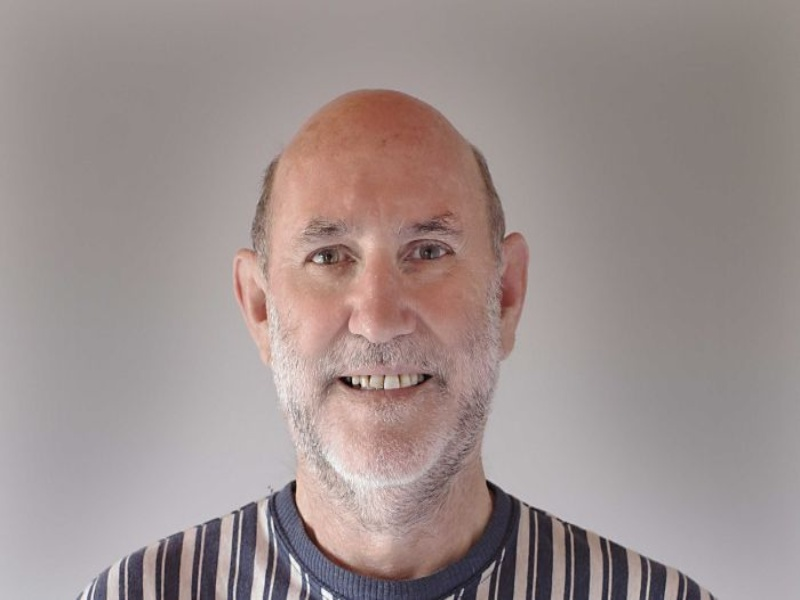face: (292, 219, 475, 403)
